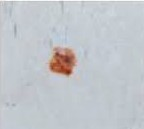Corrosion: (48, 46, 78, 78)
